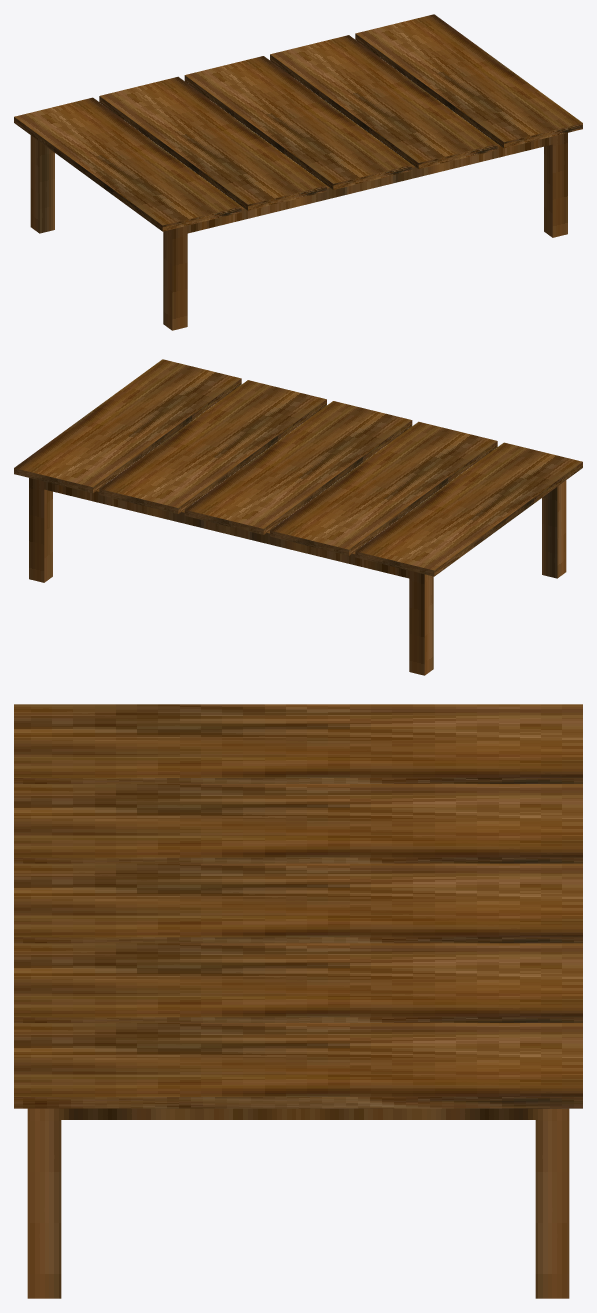
File: Poyta.glb
3 views of the same model, one above another, from view 1: azimuth 30°, elevation 25°; view 2: azimuth 150°, elevation 25°; view 3: azimuth 270°, elevation 25° (orthographic). The views are drawn at different scales.
Parts seen in each view (by area): view 1: Cube.001; view 2: Cube.001; view 3: Cube.001.
Part boxes in pixels (x1,y1,x2,y2): Cube.001: (14, 14, 582, 330); Cube.001: (14, 359, 582, 675); Cube.001: (14, 704, 582, 1298).
Size of the model in its own units: 4.13 by 1.04 by 2.53.
Materials: 2 (2 with a texture image).
